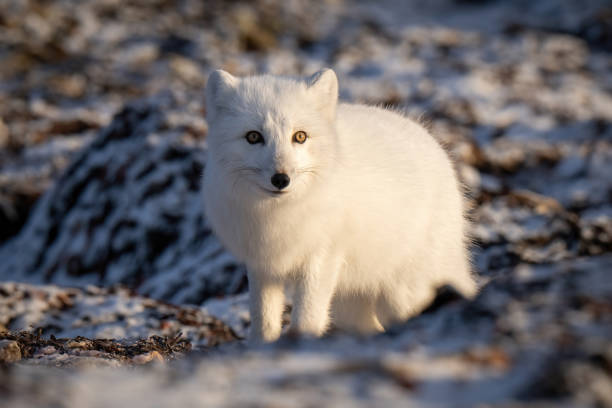arcticfox: (222, 96, 331, 218)
